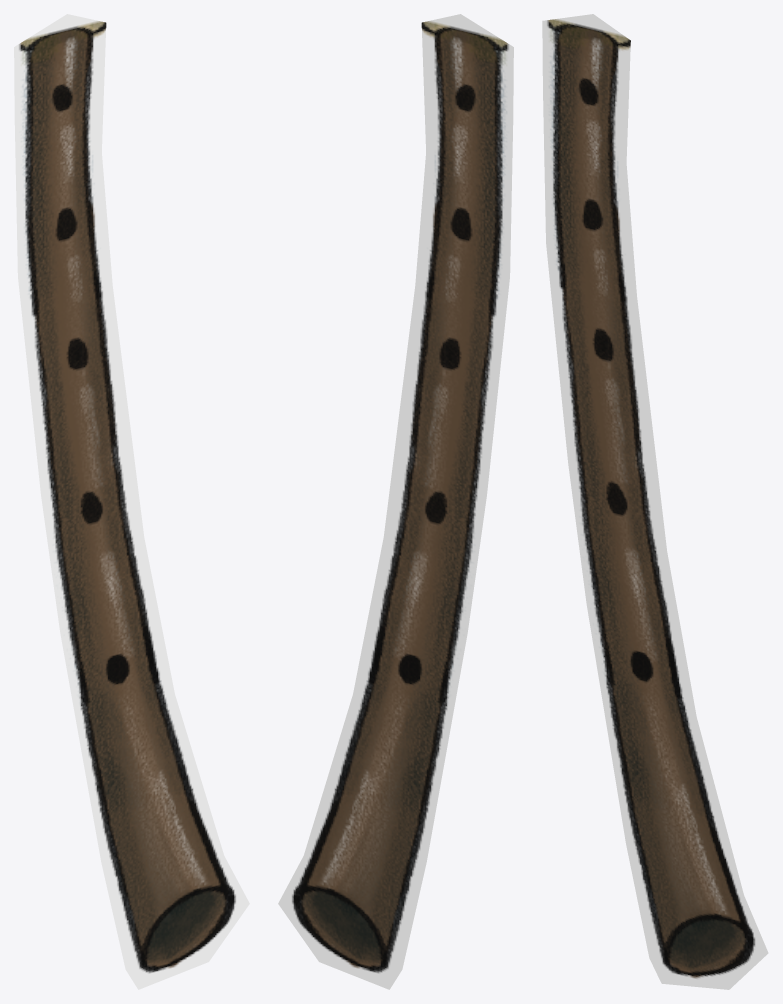
File: pistala_1.glb
3 views of the same model, side by side, from view 1: azimuth 30°, elevation 25°; view 2: azimuth 150°, elevation 25°; view 3: azimuth 330°, elevation 25° (orthographic). The views are drawn at different scales.
Parts seen in each view (by area): view 1: Plane.013; view 2: Plane.013; view 3: Plane.013.
Part boxes in pixels (x1,y1,x2,y2): Plane.013: (14,14,249,989); Plane.013: (278,14,513,989); Plane.013: (542,14,768,989).
Bounding box in the file's own units: 3.61 × 14.51 × 0.
1 material, 1 textured.
